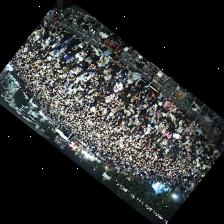person: (134, 73, 156, 90), (74, 44, 90, 62), (76, 56, 91, 71), (107, 59, 122, 73), (180, 116, 194, 131), (56, 36, 72, 48), (94, 60, 108, 73), (174, 108, 187, 122), (147, 86, 159, 101), (127, 69, 140, 82), (163, 100, 176, 112), (90, 46, 101, 60), (136, 89, 147, 102), (113, 79, 124, 91), (74, 39, 85, 51), (98, 53, 109, 65), (61, 30, 72, 41), (120, 65, 128, 79), (99, 81, 110, 91), (172, 117, 182, 128), (127, 85, 137, 96), (103, 75, 115, 84), (67, 37, 79, 46), (104, 69, 116, 78), (164, 118, 174, 128), (124, 78, 133, 89), (52, 33, 63, 42), (199, 133, 208, 144), (115, 68, 122, 82), (148, 97, 158, 106), (49, 24, 59, 33), (56, 44, 66, 53), (149, 103, 157, 114), (166, 110, 174, 121), (185, 125, 192, 137), (204, 137, 213, 146), (163, 131, 171, 141), (213, 147, 221, 157), (156, 105, 164, 115), (175, 123, 182, 134), (191, 119, 198, 130), (105, 93, 114, 101), (158, 94, 165, 104), (119, 40, 128, 47), (158, 122, 165, 131), (195, 139, 201, 149), (142, 97, 148, 107), (45, 21, 52, 29), (179, 129, 185, 138), (158, 112, 165, 118)
